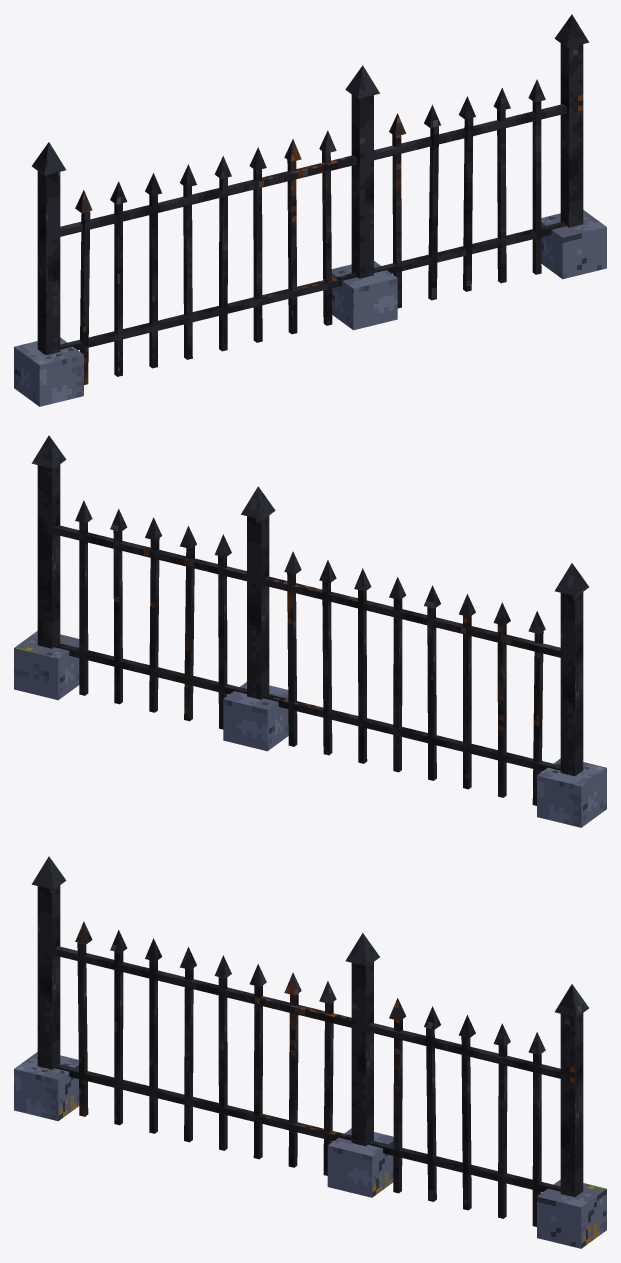
Rendered from fences.glb.
3 renders of one model, top to bottom at view 1: azimuth 30°, elevation 25°; view 2: azimuth 150°, elevation 25°; view 3: azimuth 330°, elevation 25°, orthographic.
Parts seen in each view (by area): view 1: fence-0001-mesh-1, fence-0001-mesh-0; view 2: fence-0001-mesh-1, fence-0001-mesh-0; view 3: fence-0001-mesh-1, fence-0001-mesh-0.
Boxes of the visible parts, <box> form: fence-0001-mesh-1: <box>32,14,589,384</box>; fence-0001-mesh-0: <box>14,210,606,406</box>; fence-0001-mesh-1: <box>31,435,588,805</box>; fence-0001-mesh-0: <box>14,631,606,827</box>; fence-0001-mesh-1: <box>31,856,588,1226</box>; fence-0001-mesh-0: <box>14,1052,606,1248</box>.
Size of the model in its own units: 3.58 by 1.51 by 0.28.
Materials: 2 (2 with a texture image).
